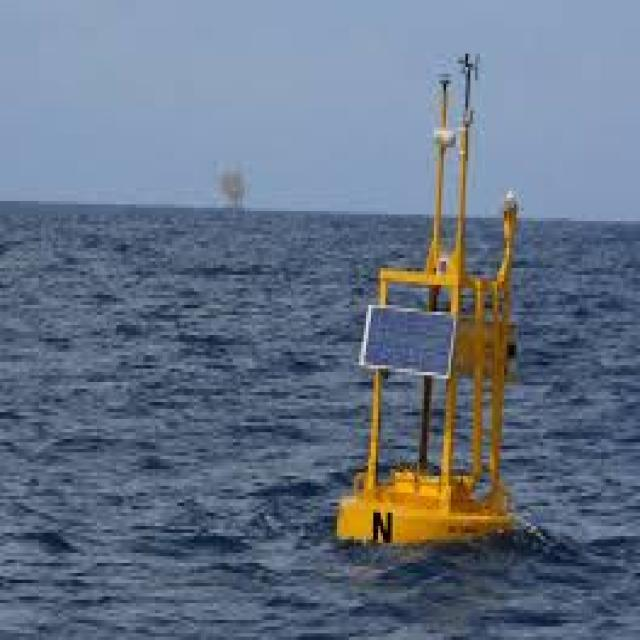buoy: (323, 18, 552, 567)
